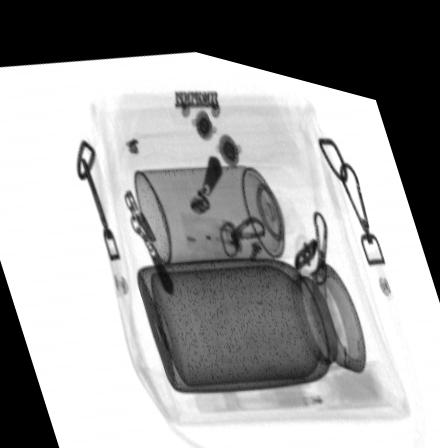Lighter: (178, 204, 244, 245)
Sprayer: (133, 149, 316, 256)
